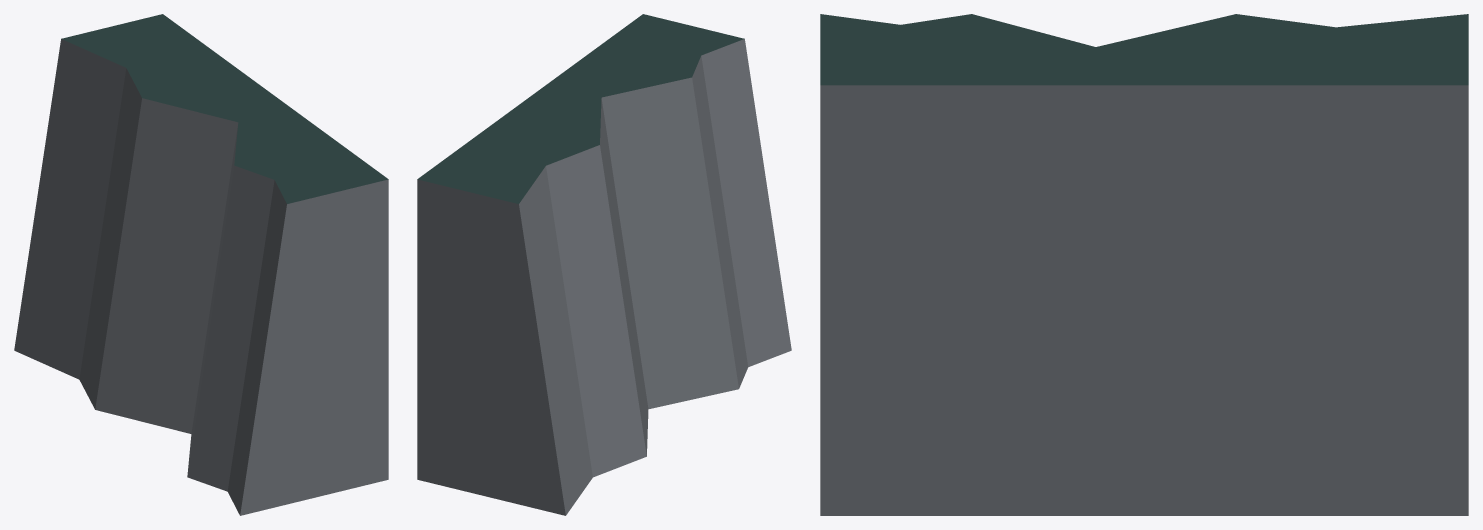
File: Grey_Cliff_Bottom_Green_Top_01.obj
3 views of the same model, side by side, from view 1: azimuth 30°, elevation 25°; view 2: azimuth 150°, elevation 25°; view 3: azimuth 270°, elevation 25° (orthographic). The views are drawn at different scales.
Visible parts, largest first — view 1: Mesh1_Grey_Cliff_Bottom_Green_Top_Model; view 2: Mesh1_Grey_Cliff_Bottom_Green_Top_Model; view 3: Mesh1_Grey_Cliff_Bottom_Green_Top_Model.
Part boxes in pixels (x1,y1,x2,y2): Mesh1_Grey_Cliff_Bottom_Green_Top_Model: [14, 14, 388, 515]; Mesh1_Grey_Cliff_Bottom_Green_Top_Model: [417, 14, 791, 515]; Mesh1_Grey_Cliff_Bottom_Green_Top_Model: [820, 14, 1468, 515].
Bounding box in the file's own units: 1.14 × 2.2 × 3.
